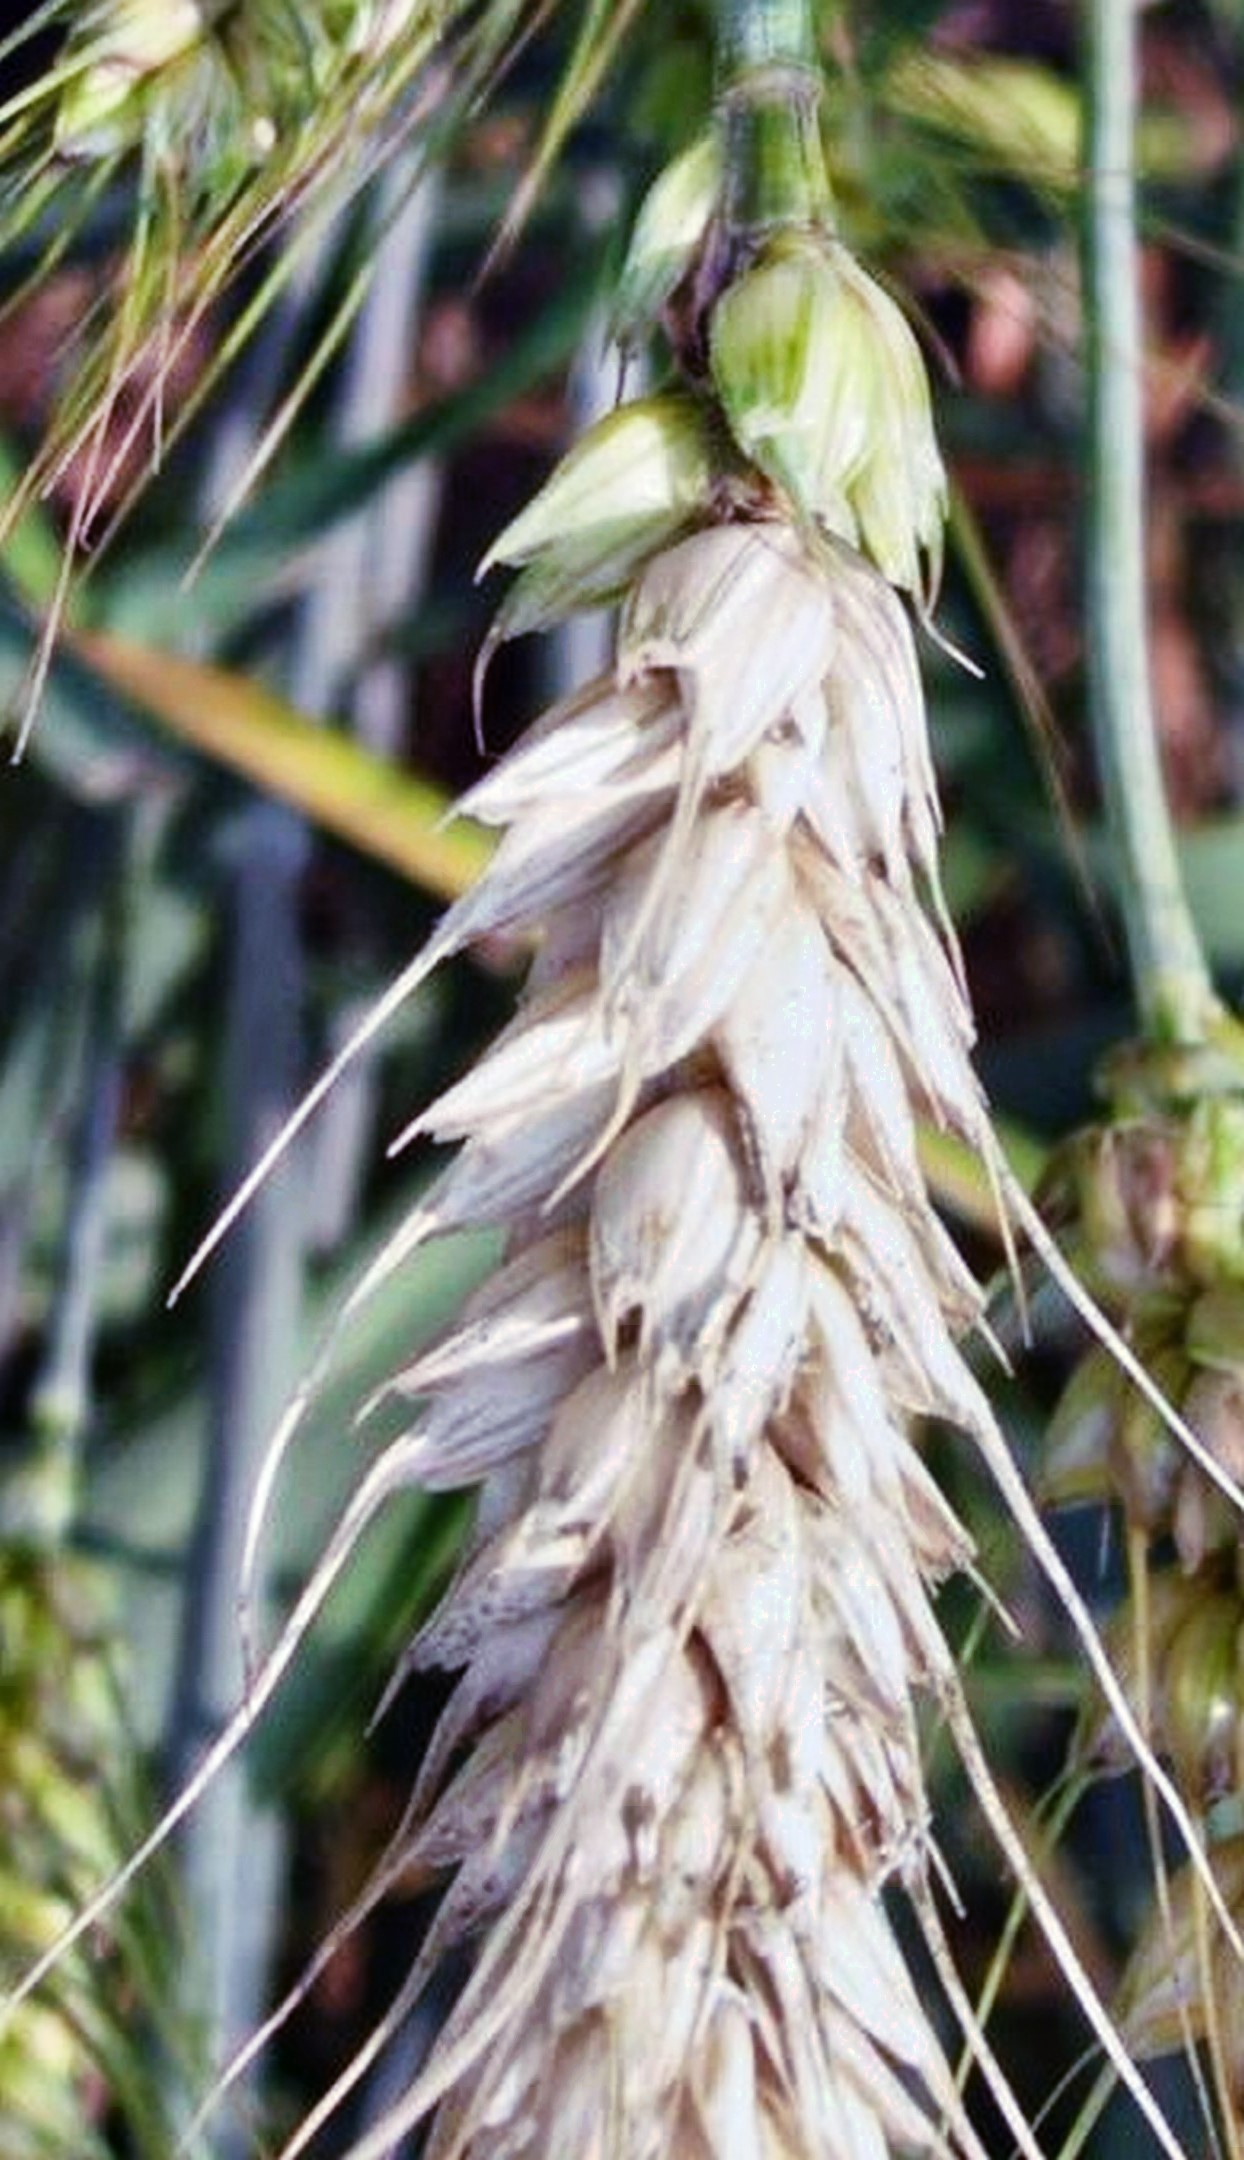Wheat scab: (434, 223, 1053, 2160)
